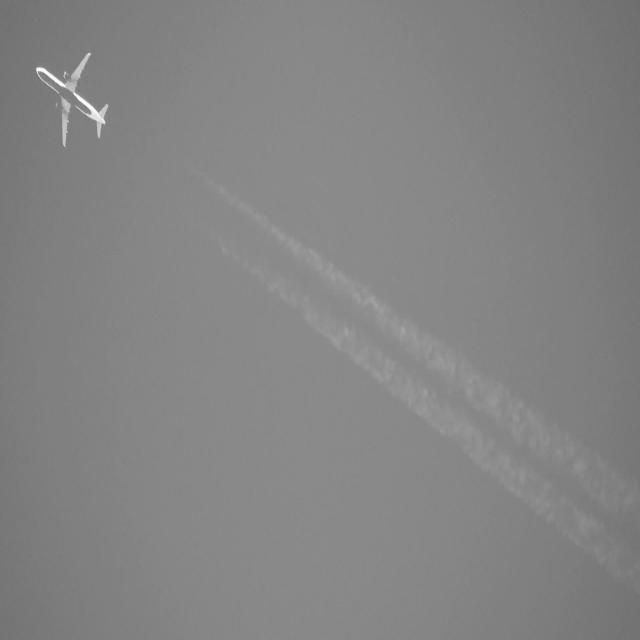aeroplane: (33, 50, 115, 154)
